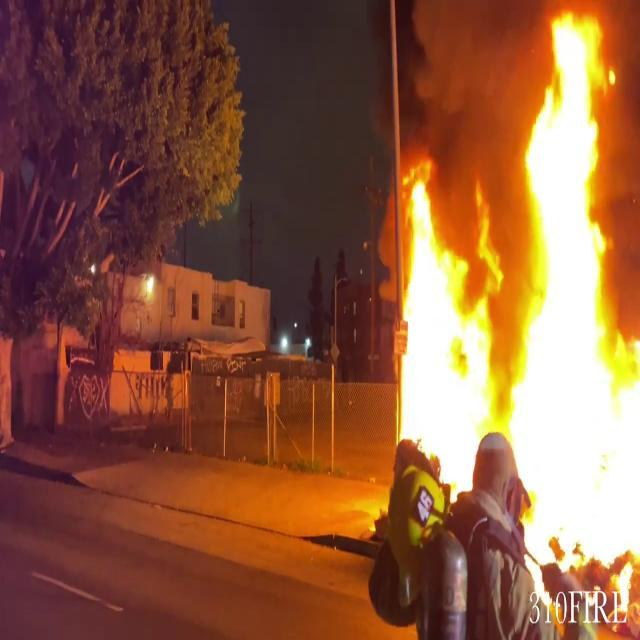Fire: (510, 4, 640, 592), (392, 156, 514, 524)
Smoke: (394, 0, 542, 166)
